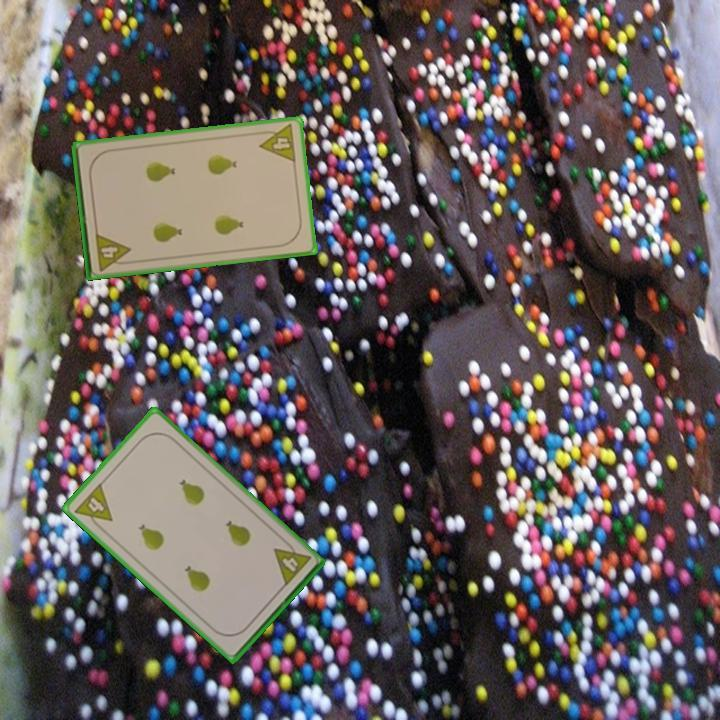4p: (70, 479, 115, 534), (270, 536, 313, 589), (255, 121, 299, 165), (92, 229, 134, 274)
